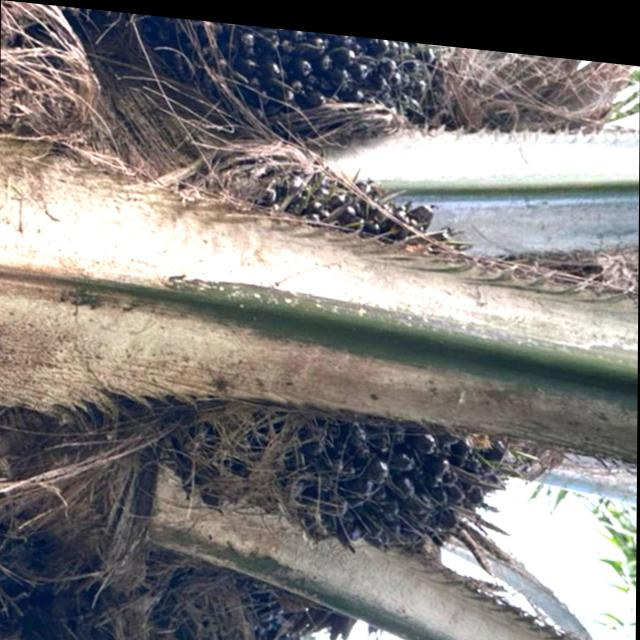almost: (182, 148, 544, 561), (166, 14, 448, 145)
